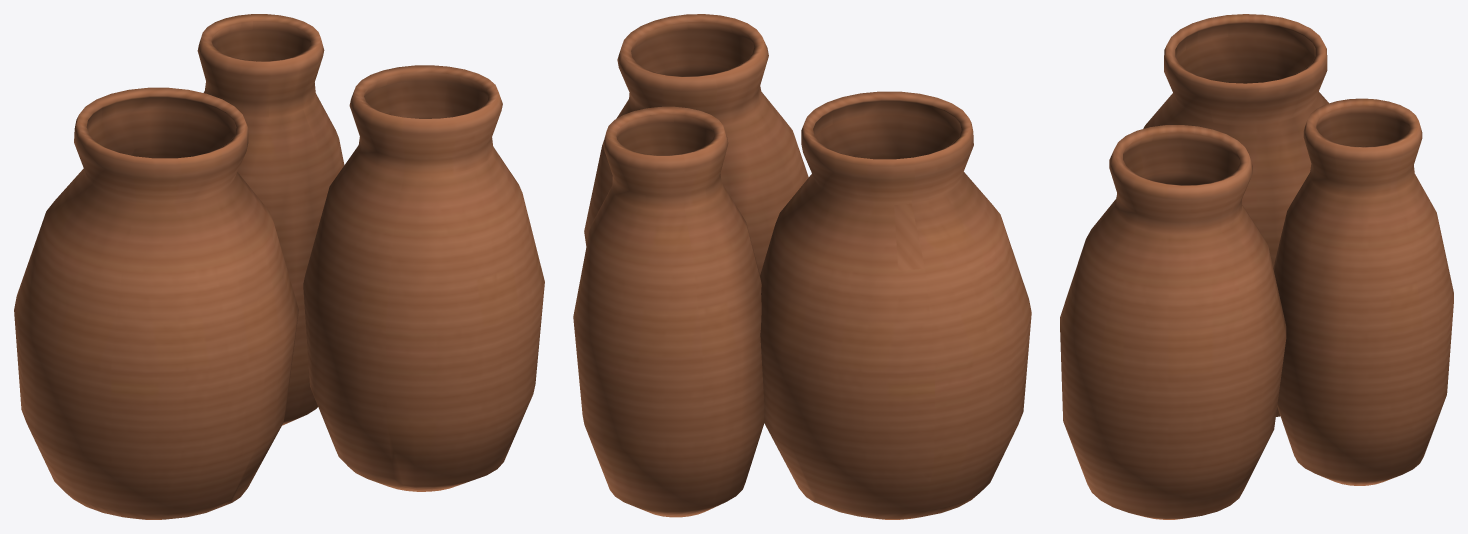
The model's file is p_jars.hi.glb.
3 views of the same model, side by side, from view 1: azimuth 30°, elevation 25°; view 2: azimuth 150°, elevation 25°; view 3: azimuth 270°, elevation 25° (orthographic). The views are drawn at different scales.
Parts seen in each view (by area): view 1: jars; view 2: jars; view 3: jars.
Boxes of the visible parts, bbox=[...] form: jars: bbox=[14, 14, 544, 519]; jars: bbox=[573, 14, 1031, 519]; jars: bbox=[1060, 14, 1453, 519].
Bounding box in the file's own units: 0.7683 × 0.6082 × 0.609.
Materials: 1 (1 with a texture image).
